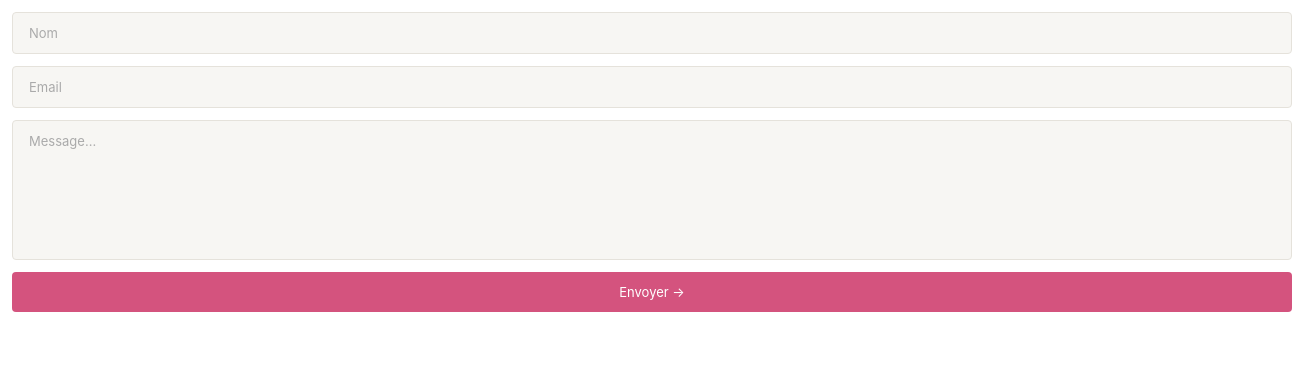
Test: ContactForm › submission feedback › shows success message after a successful submission
The width and height of the screenshot is (1304, 367).
Type "Alice" into the field with placeholder "Nom" at (652, 33), box 12,12 -> 1292,54
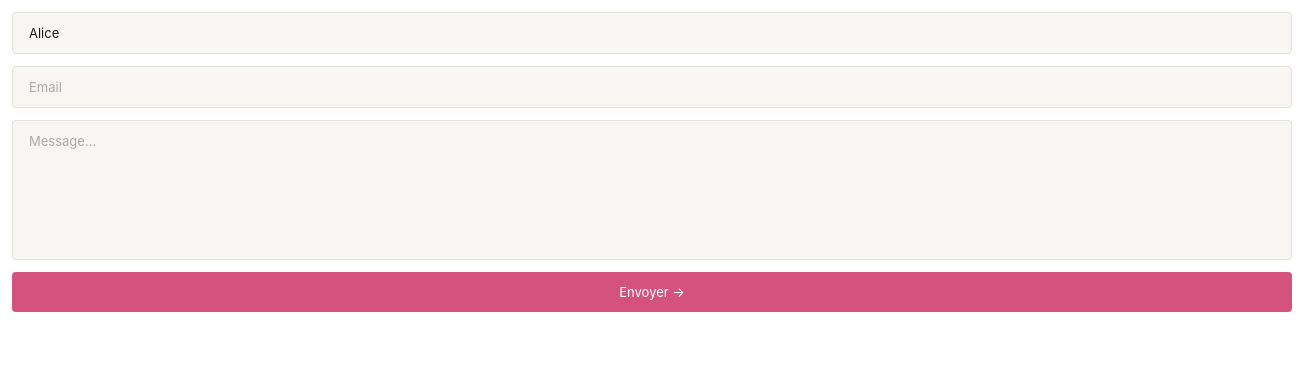
Type "alice@example.com" into the field with placeholder "Email" at (652, 87), box 12,66 -> 1292,108
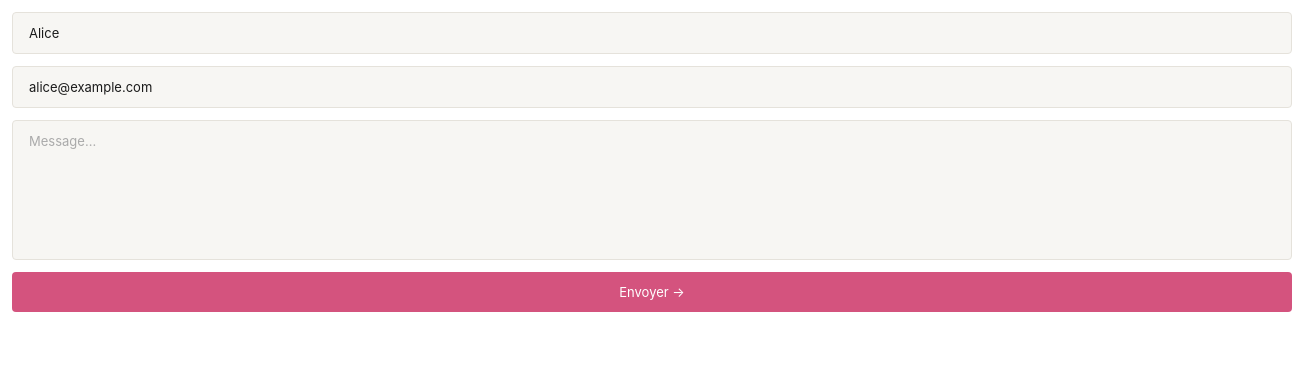
Type "Hello!" into the text box with placeholder "Message..." at (652, 190), box 12,120 -> 1292,260
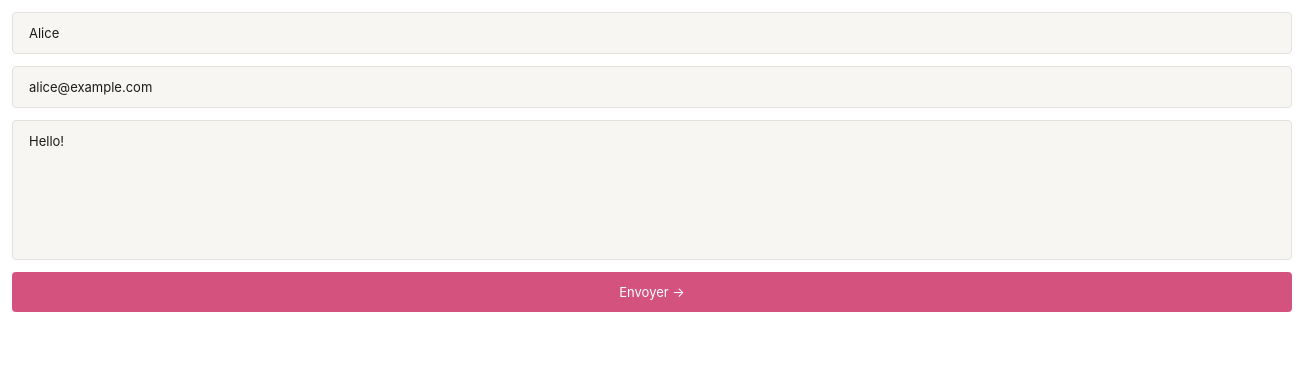
Click the button "Envoyer →" at (652, 292), box 12,272 -> 1292,312
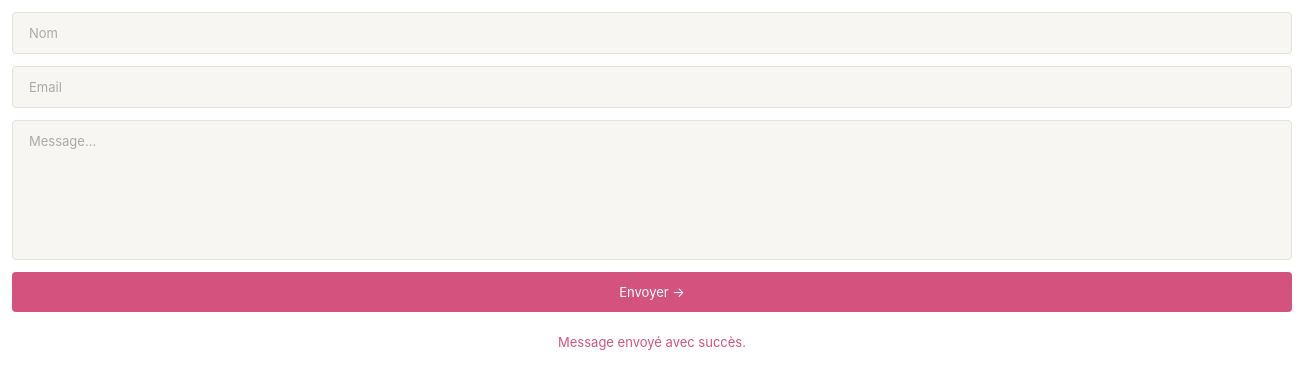
Expected: the text "Message envoyé avec succès." is shown, 558,334 -> 746,350
